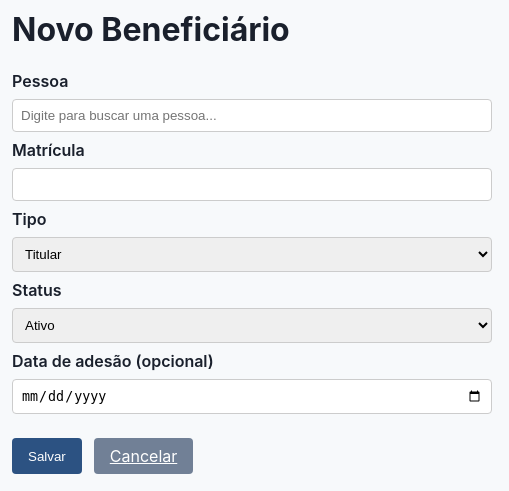
BeneficiarioFormView › typing into the Pessoa field narrows to matching people via pessoaApi.list
This screenshot has width=509, height=491.
Type "ful" into the field with placeholder "Digite para buscar uma pessoa..." at (252, 115), box [12,99,492,132]
Wait 300 ms
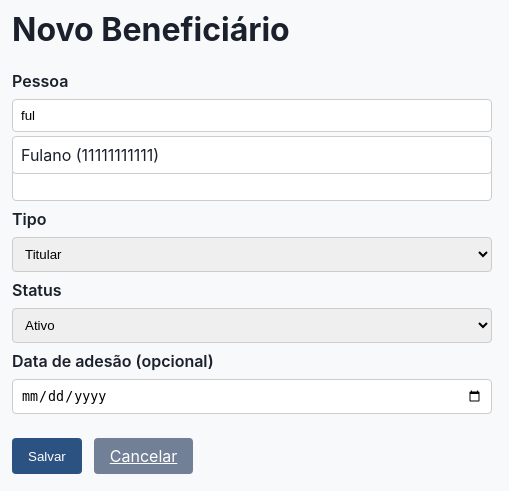
Expected: the list item with class "searchable-select__option" reads "Fulano (11111111111)", [21,145,159,165]
